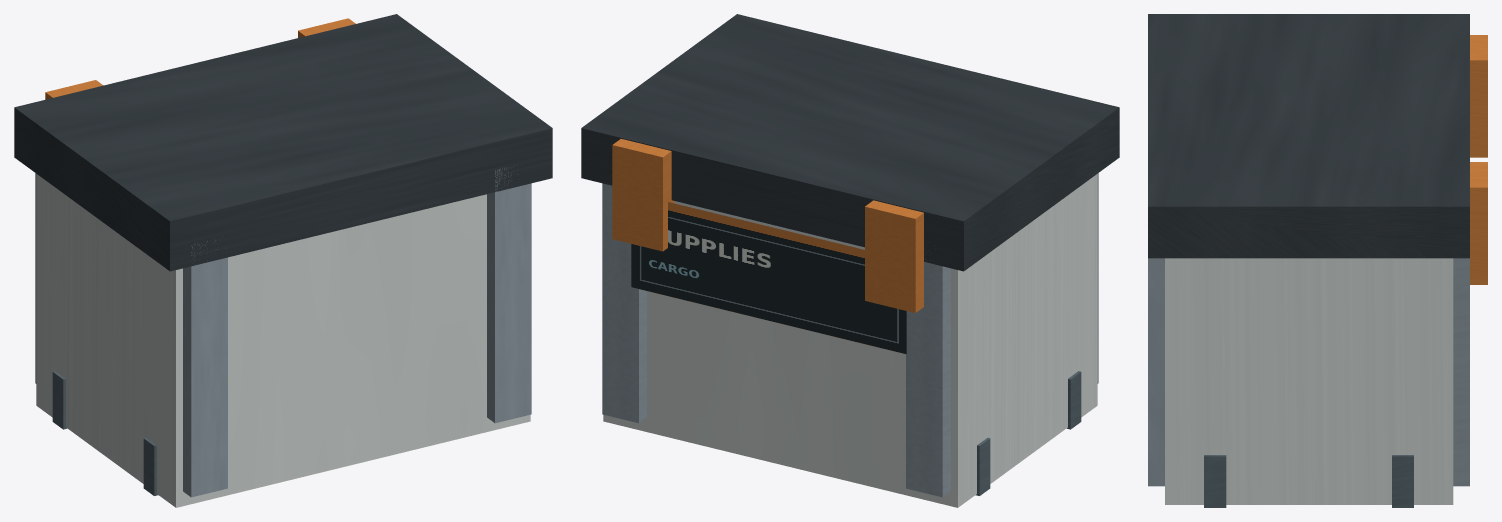
The model's file is cargo_crate_small.glb.
3 views of the same model, side by side, from view 1: azimuth 30°, elevation 25°; view 2: azimuth 150°, elevation 25°; view 3: azimuth 270°, elevation 25° (orthographic). The views are drawn at different scales.
Parts seen in each view (by area): view 1: main_shell_ceramic, lid_graphite, reinforced_corner_rails_steel, reinforcing_bands_metal_dark, lid_latches_orange; view 2: lid_graphite, main_shell_ceramic, cargo_marking_LABEL_SUPPLIES, reinforced_corner_rails_steel, lid_latches_orange, reinforcing_bands_metal_dark; view 3: lid_graphite, main_shell_ceramic, reinforced_corner_rails_steel, lid_latches_orange, reinforcing_bands_metal_dark.
Part boxes in pixels (x1,y1,x2,y2): main_shell_ceramic: (36,174,530,507); lid_graphite: (14,14,552,271); reinforced_corner_rails_steel: (35,167,531,497); reinforcing_bands_metal_dark: (52,371,158,495); lid_latches_orange: (45,18,355,99); lid_graphite: (581,14,1119,271); main_shell_ceramic: (603,174,1097,507); cargo_marking_LABEL_SUPPLIES: (631,202,906,354); reinforced_corner_rails_steel: (602,173,1098,497); lid_latches_orange: (612,139,923,312); reinforcing_bands_metal_dark: (975,371,1081,495); lid_graphite: (1148,14,1469,258); main_shell_ceramic: (1165,258,1453,504); reinforced_corner_rails_steel: (1148,258,1469,486); lid_latches_orange: (1470,35,1487,284); reinforcing_bands_metal_dark: (1204,455,1413,507).
Bounding box in the file's own units: 0.68 × 0.505 × 0.5065.
Materials: 6 (6 with a texture image).
